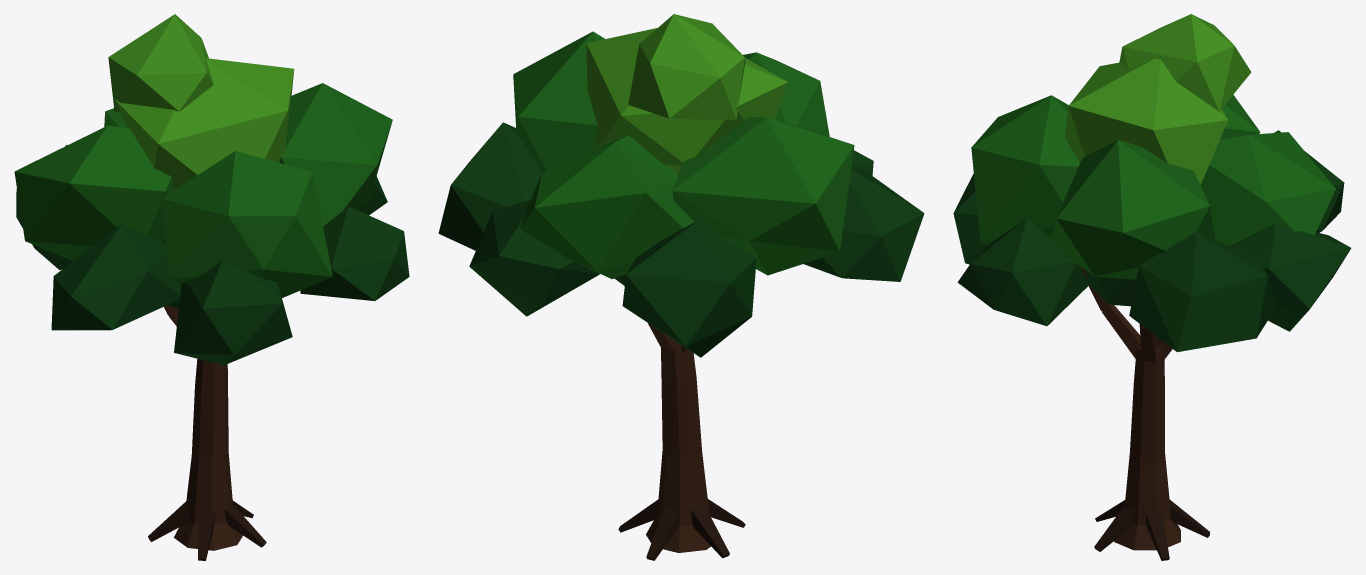
File: WL_Tree_Broadleaf_A.obj
The picture shows the model from 3 angles, left to right: view 1: azimuth 30°, elevation 25°; view 2: azimuth 150°, elevation 25°; view 3: azimuth 270°, elevation 25°; orthographic projection. The views are drawn at different scales.
Parts seen in each view (by area): view 1: WL_Tree_Broadleaf_A_Canopy_Mid, WL_Tree_Broadleaf_A_Canopy_Shade, WL_Tree_Broadleaf_A_Canopy_Sunlit, WL_Tree_Broadleaf_A_Trunk, WL_Tree_Broadleaf_A_Roots; view 2: WL_Tree_Broadleaf_A_Canopy_Mid, WL_Tree_Broadleaf_A_Canopy_Shade, WL_Tree_Broadleaf_A_Canopy_Sunlit, WL_Tree_Broadleaf_A_Trunk, WL_Tree_Broadleaf_A_Roots; view 3: WL_Tree_Broadleaf_A_Canopy_Mid, WL_Tree_Broadleaf_A_Canopy_Shade, WL_Tree_Broadleaf_A_Canopy_Sunlit, WL_Tree_Broadleaf_A_Trunk, WL_Tree_Broadleaf_A_Roots, WL_Tree_Broadleaf_A_Branches.
Boxes of the visible parts, x1,y1,x2,y2 form: WL_Tree_Broadleaf_A_Canopy_Mid: (14,83,392,297); WL_Tree_Broadleaf_A_Canopy_Shade: (16,145,409,365); WL_Tree_Broadleaf_A_Canopy_Sunlit: (108,14,294,189); WL_Tree_Broadleaf_A_Trunk: (174,358,242,550); WL_Tree_Broadleaf_A_Roots: (148,500,266,560); WL_Tree_Broadleaf_A_Canopy_Mid: (513,31,854,278); WL_Tree_Broadleaf_A_Canopy_Shade: (438,122,924,357); WL_Tree_Broadleaf_A_Canopy_Sunlit: (586,14,787,175); WL_Tree_Broadleaf_A_Trunk: (646,340,710,552); WL_Tree_Broadleaf_A_Roots: (618,499,745,560); WL_Tree_Broadleaf_A_Canopy_Mid: (971,94,1335,279); WL_Tree_Broadleaf_A_Canopy_Shade: (953,130,1351,352); WL_Tree_Broadleaf_A_Canopy_Sunlit: (1064,14,1251,184); WL_Tree_Broadleaf_A_Trunk: (1114,347,1180,550); WL_Tree_Broadleaf_A_Roots: (1094,500,1209,560); WL_Tree_Broadleaf_A_Branches: (1080,266,1172,363).
Size of the model in its own units: 6.78 by 8.79 by 6.14.
